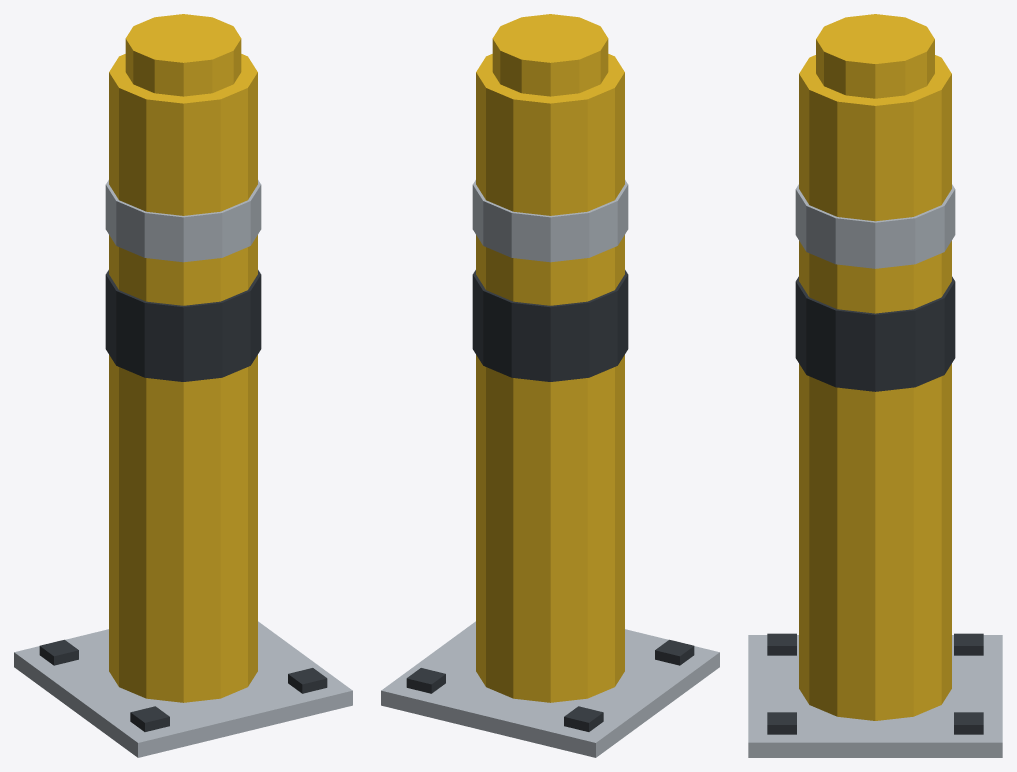
Rendered from zone-bollard.glb.
The picture shows the model from 3 angles, left to right: view 1: azimuth 30°, elevation 25°; view 2: azimuth 150°, elevation 25°; view 3: azimuth 270°, elevation 25°; orthographic projection. The views are drawn at different scales.
Visible parts, largest first — view 1: Prop_Bollard_mesh; view 2: Prop_Bollard_mesh; view 3: Prop_Bollard_mesh.
Part boxes in pixels (left/top/right/bottom): Prop_Bollard_mesh: left=14, top=14, right=352, bottom=757; Prop_Bollard_mesh: left=381, top=14, right=719, bottom=757; Prop_Bollard_mesh: left=748, top=14, right=1002, bottom=757.
Size of the model in its own units: 0.3 by 0.865 by 0.3.
